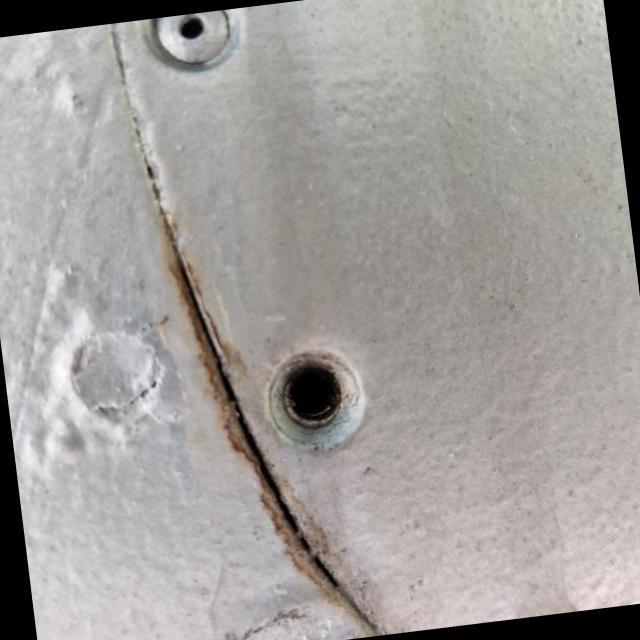Fastener Damage: (220, 302, 416, 496)
